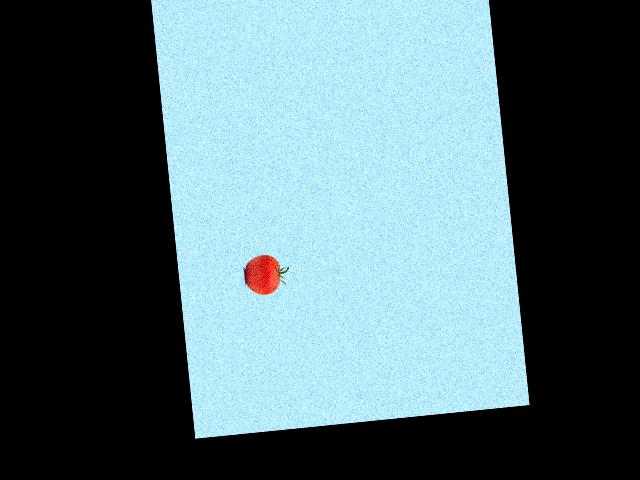tomato: (243, 253, 282, 297)
